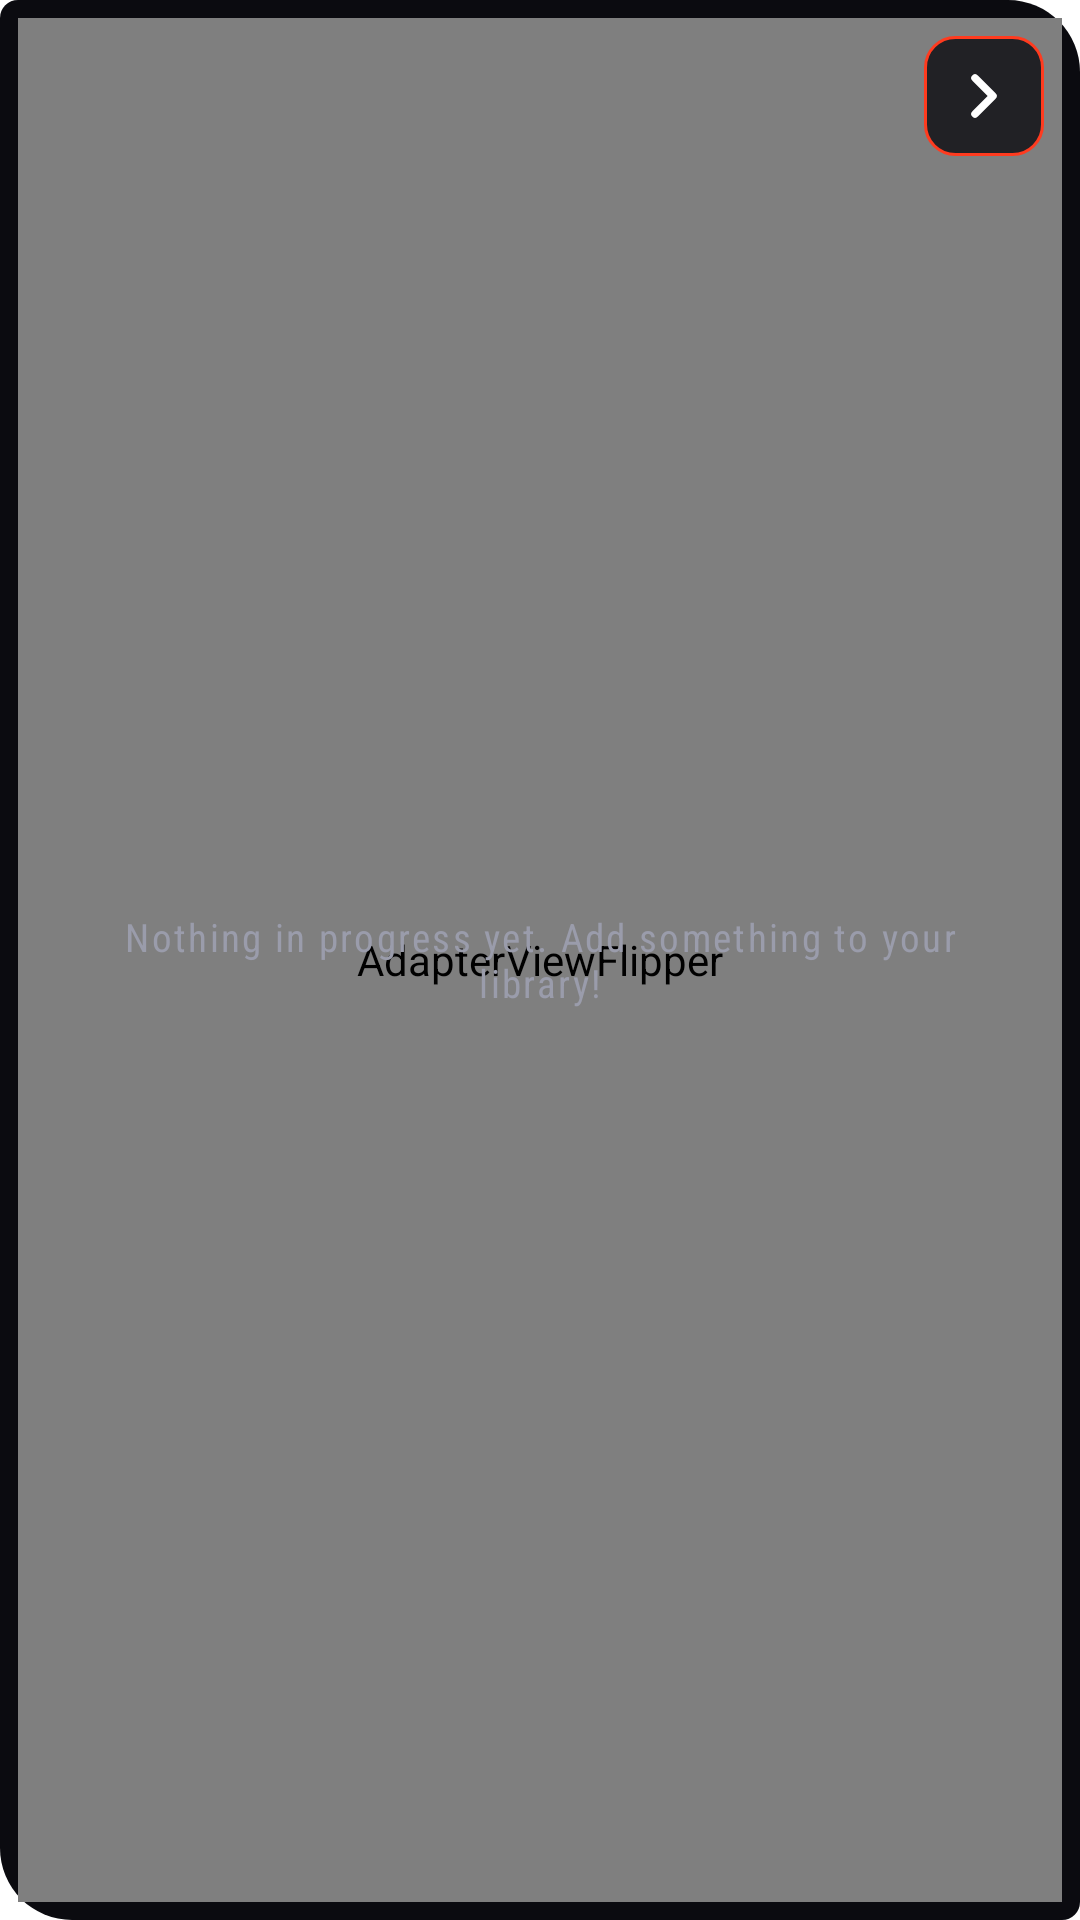

Named icons in this screenshot (1080*1920) and their centers, [x,y]:
Next: [984,96]
